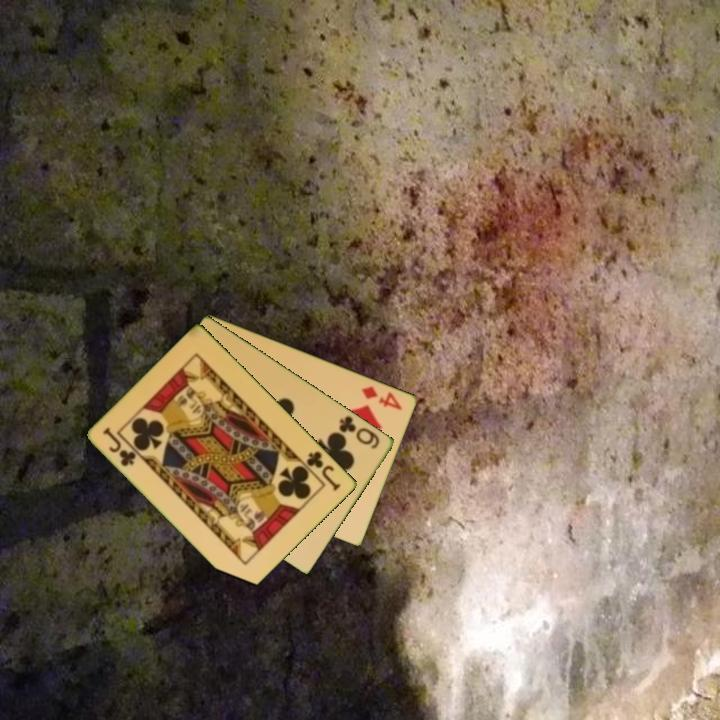4d: (358, 382, 405, 413)
6c: (335, 412, 383, 452)
Jc: (303, 447, 344, 494), (100, 424, 140, 470)
